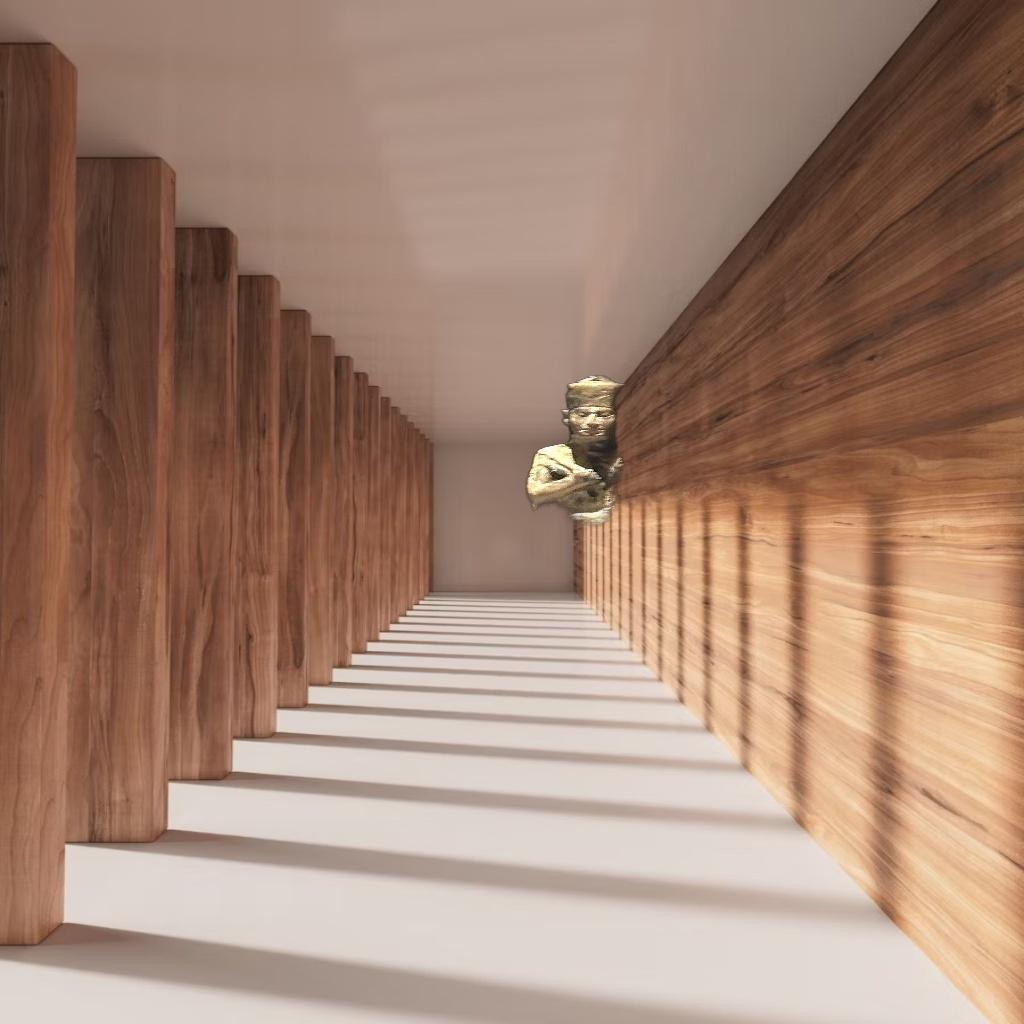Statue of Khufu: (522, 374, 668, 614)
